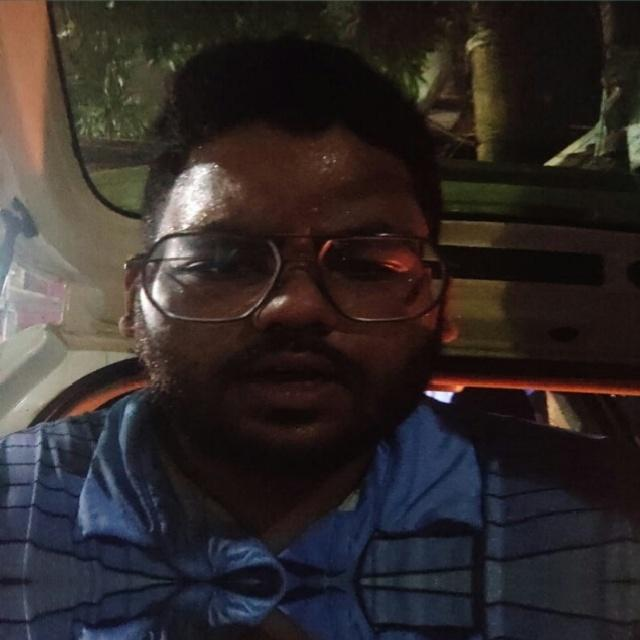Disgust: (116, 115, 497, 520)
